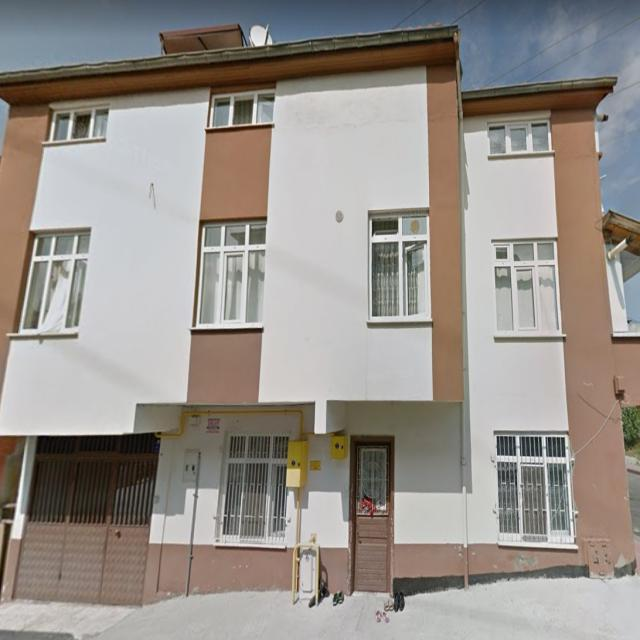Building: (0, 24, 640, 605)
